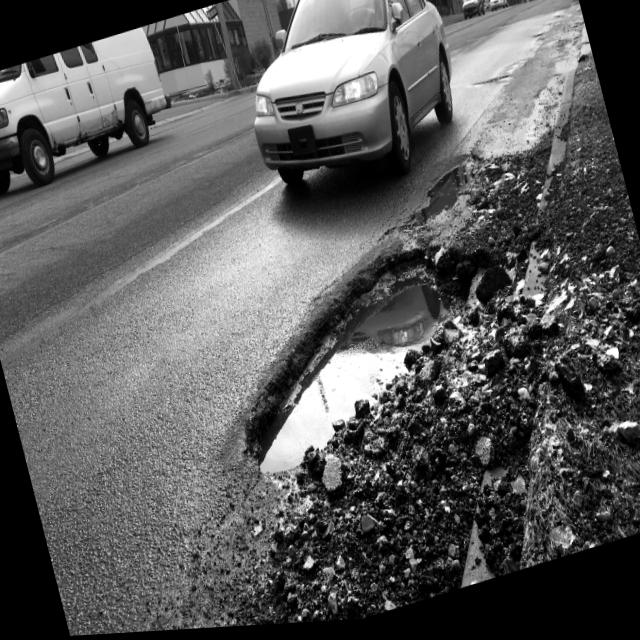pathole: (249, 67, 640, 628), (261, 282, 446, 476), (248, 234, 427, 421)
